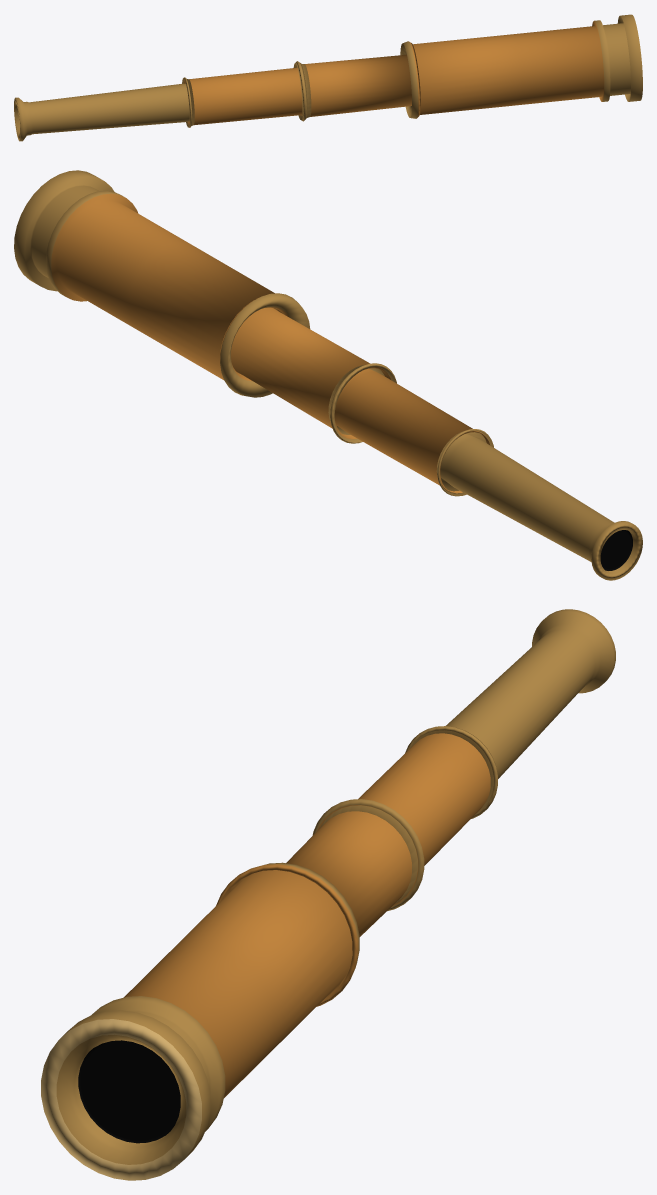
Rendered from longuevue.glb.
The picture shows the model from 3 angles, top to bottom: view 1: azimuth 30°, elevation 25°; view 2: azimuth 150°, elevation 25°; view 3: azimuth 270°, elevation 25°; orthographic projection. The views are drawn at different scales.
Visible parts, largest first — view 1: Cylinder; view 2: Cylinder; view 3: Cylinder.
Boxes of the visible parts, x1=… form: Cylinder: x1=14, y1=14, x2=642, y2=141; Cylinder: x1=14, y1=170, x2=642, y2=580; Cylinder: x1=41, y1=609, x2=615, y2=1180.
Size of the model in its own units: 2.98 by 0.4451 by 1.41.
